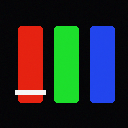3 line_h: (15, 90, 45, 94)
